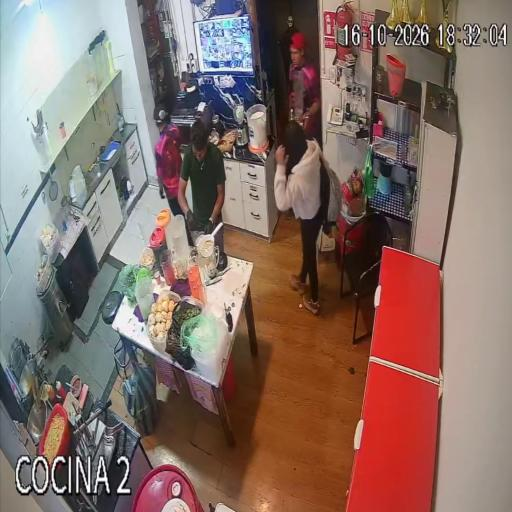Envase Ketchup: (56, 381, 65, 400)
Envase Llajua: (43, 383, 54, 402)
Jarra1: (150, 227, 167, 273)
Jarra2: (156, 209, 172, 247)
Jarra3: (171, 215, 189, 261)
Jarra4: (134, 278, 154, 321)
Microondas: (171, 109, 200, 151)
Persona1: (289, 32, 320, 139)
Persona2: (154, 106, 182, 214)
Persona4: (179, 121, 226, 233)
Persona5: (274, 121, 330, 314)
Taper: (40, 223, 61, 264)
Taper2: (181, 304, 230, 381)
Taper3: (166, 297, 203, 369)
Taper4: (146, 290, 180, 351)
